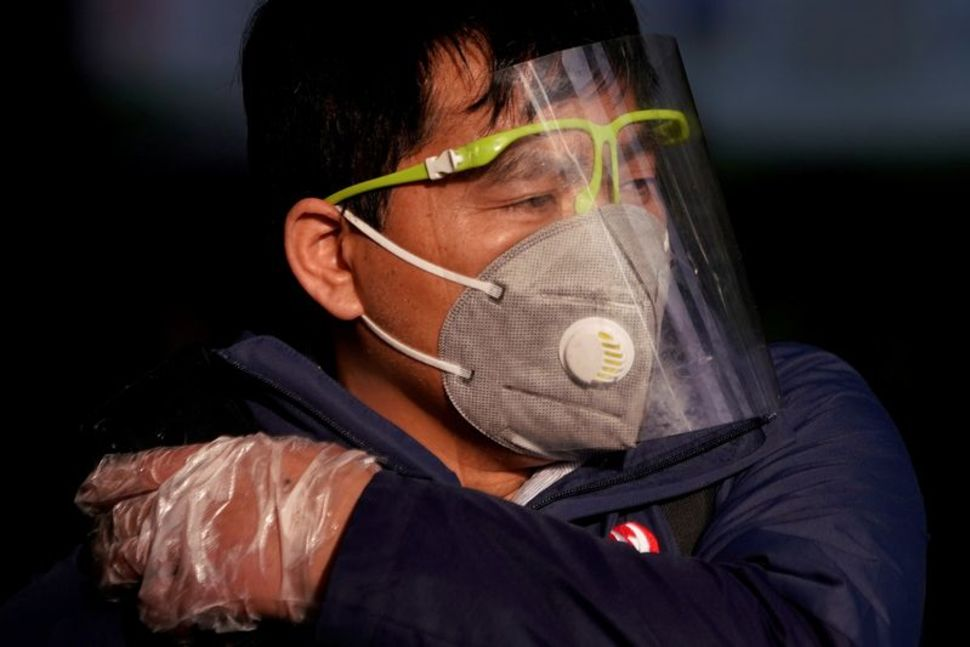n95: (426, 206, 683, 457)
